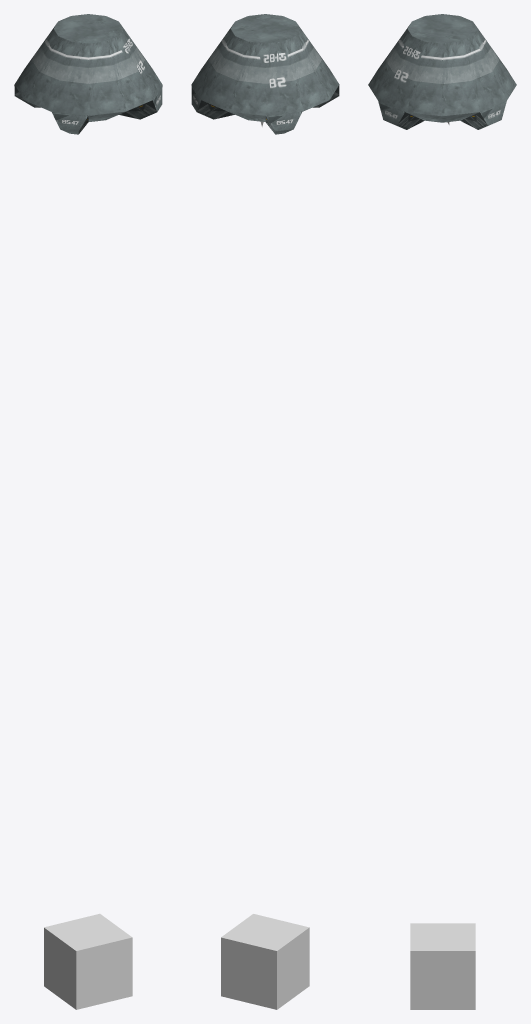
Rendered from iblite00.FBX.
The picture shows the model from 3 angles, left to right: view 1: azimuth 30°, elevation 25°; view 2: azimuth 150°, elevation 25°; view 3: azimuth 270°, elevation 25°; orthographic projection.
Visible parts, largest first — view 1: iblite00, hp_dummyroot; view 2: iblite00, hp_dummyroot; view 3: iblite00, hp_dummyroot.
Boxes of the visible parts, left/top/right/bottom form: iblite00: left=14, top=14, right=162, bottom=134; hp_dummyroot: left=44, top=913, right=132, bottom=1009; iblite00: left=191, top=14, right=339, bottom=134; hp_dummyroot: left=221, top=914, right=309, bottom=1009; iblite00: left=368, top=14, right=516, bottom=129; hp_dummyroot: left=410, top=923, right=475, bottom=1009.
Bounding box in the file's own units: 2.28 × 2.28 × 16.36.
